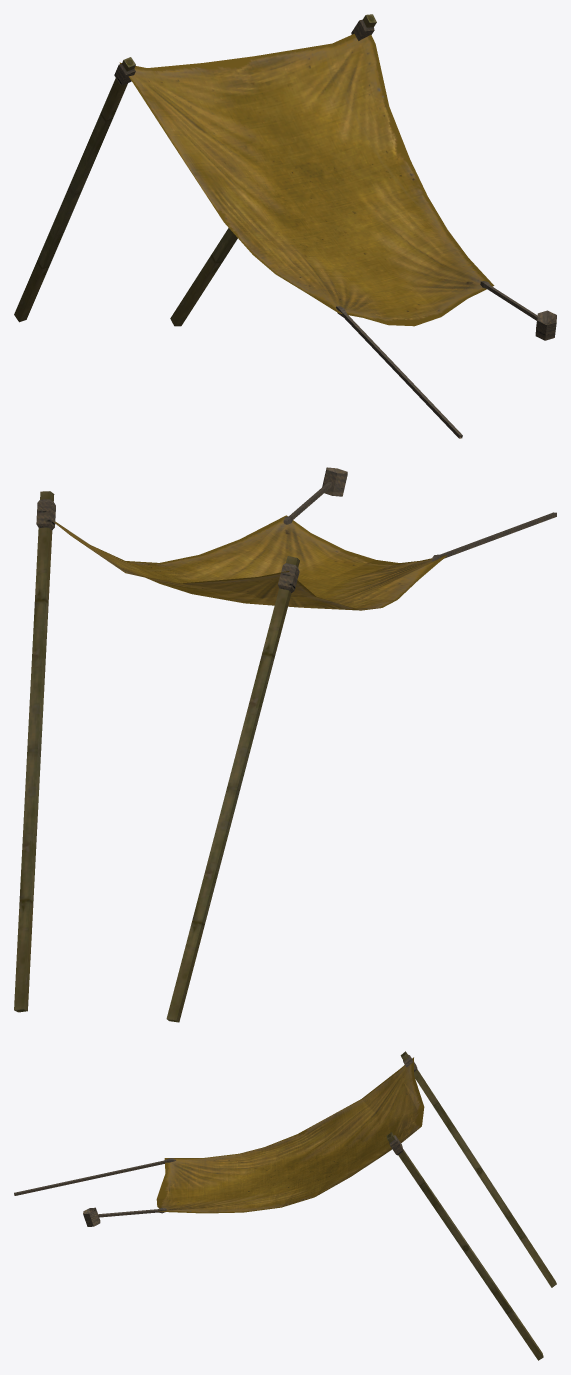
File: House5.fbx
The picture shows the model from 3 angles, top to bottom: view 1: azimuth 30°, elevation 25°; view 2: azimuth 150°, elevation 25°; view 3: azimuth 270°, elevation 25°; orthographic projection. The views are drawn at different scales.
Parts seen in each view (by area): view 1: AT_BGAgo_AwningA05_13B.mo; view 2: AT_BGAgo_AwningA05_13B.mo; view 3: AT_BGAgo_AwningA05_13B.mo.
Boxes of the visible parts, left/top/right/bottom form: AT_BGAgo_AwningA05_13B.mo: left=14, top=14, right=556, bottom=438; AT_BGAgo_AwningA05_13B.mo: left=14, top=467, right=556, bottom=1022; AT_BGAgo_AwningA05_13B.mo: left=14, top=1051, right=556, bottom=1360.
Bounding box in the file's own units: 341 × 505 × 963.
